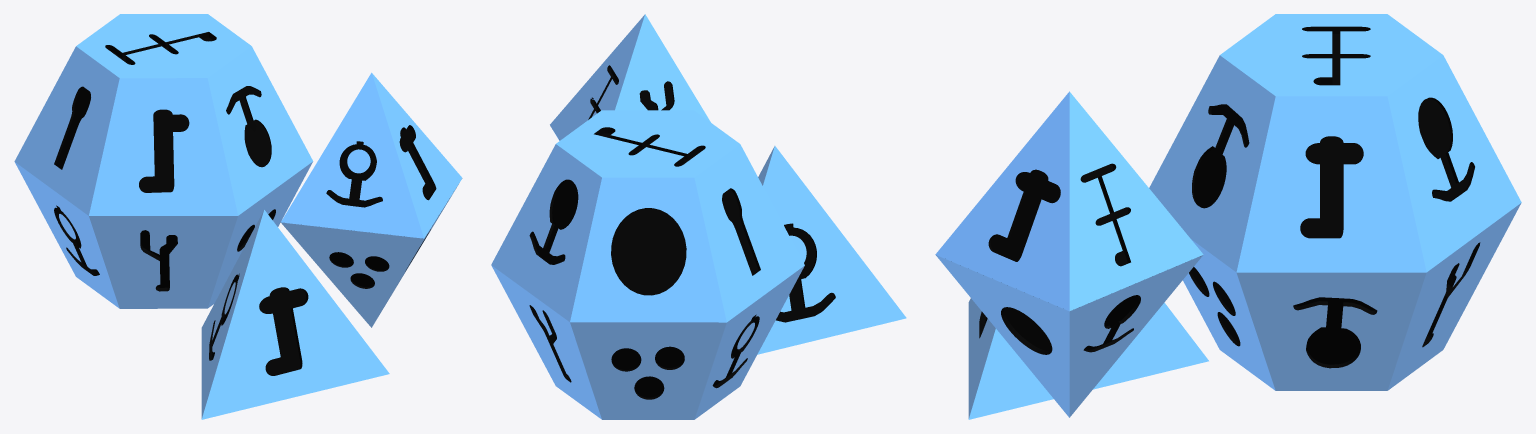
Rendered from magnetic-dice.glb.
The picture shows the model from 3 angles, left to right: view 1: azimuth 30°, elevation 25°; view 2: azimuth 150°, elevation 25°; view 3: azimuth 270°, elevation 25°; orthographic projection. The views are drawn at different scales.
Visible parts, largest first — view 1: Cylinder, losange, Cone; view 2: Cylinder, Cone, losange; view 3: Cylinder, losange, Cone.
Part boxes in pixels (x1=…): Cylinder: x1=14, y1=14, x2=313, y2=308; losange: x1=280, y1=72, x2=462, y2=327; Cone: x1=201, y1=209, x2=389, y2=419; Cylinder: x1=491, y1=110, x2=804, y2=419; Cone: x1=757, y1=146, x2=906, y2=354; losange: x1=550, y1=14, x2=710, y2=140; Cylinder: x1=1149, y1=14, x2=1521, y2=390; losange: x1=935, y1=91, x2=1203, y2=417; Cone: x1=968, y1=298, x2=1208, y2=419.
Bounding box in the file's own units: 1.36 × 1.13 × 1.76.
